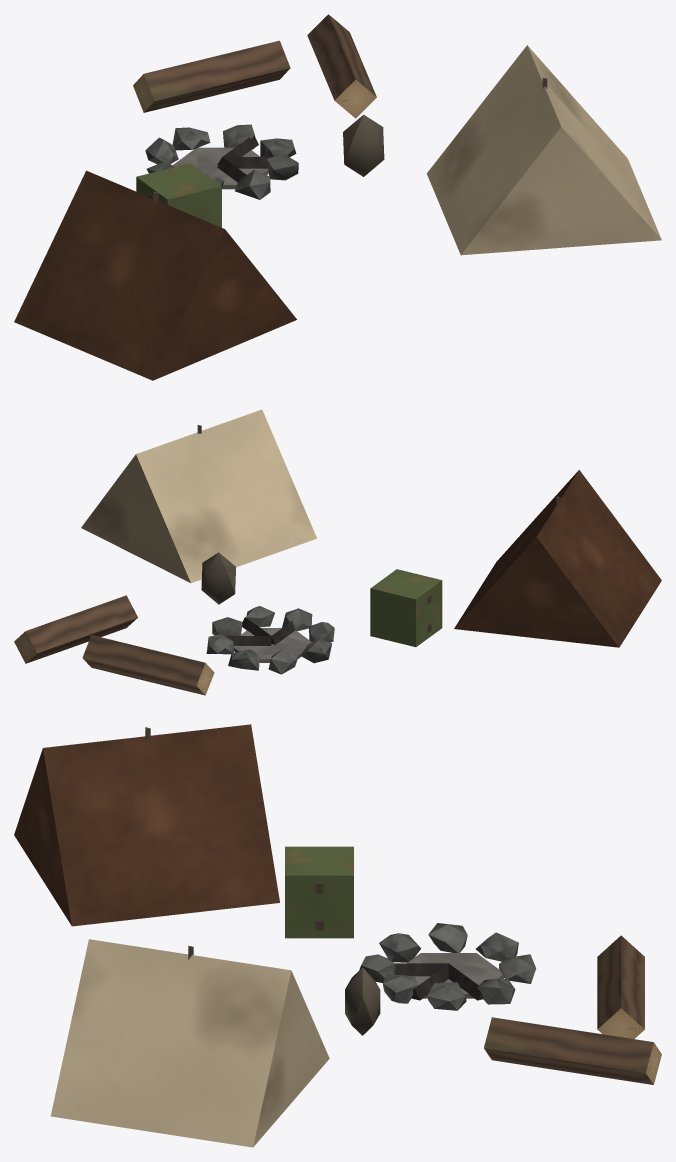
Rendered from SM_POI_Campsite_LOD1.fbx.
3 renders of one model, top to bottom at view 1: azimuth 30°, elevation 25°; view 2: azimuth 150°, elevation 25°; view 3: azimuth 270°, elevation 25°, orthographic. The views are drawn at different scales.
Visible parts, largest first — view 1: SM_POI_Campsite_LOD1; view 2: SM_POI_Campsite_LOD1; view 3: SM_POI_Campsite_LOD1.
Boxes of the visible parts, <box> form: SM_POI_Campsite_LOD1: <box>14,14,661,380</box>; SM_POI_Campsite_LOD1: <box>14,409,661,695</box>; SM_POI_Campsite_LOD1: <box>14,724,661,1147</box>.
Size of the model in its own units: 18.46 by 3.71 by 15.03.
1 material, 1 textured.
